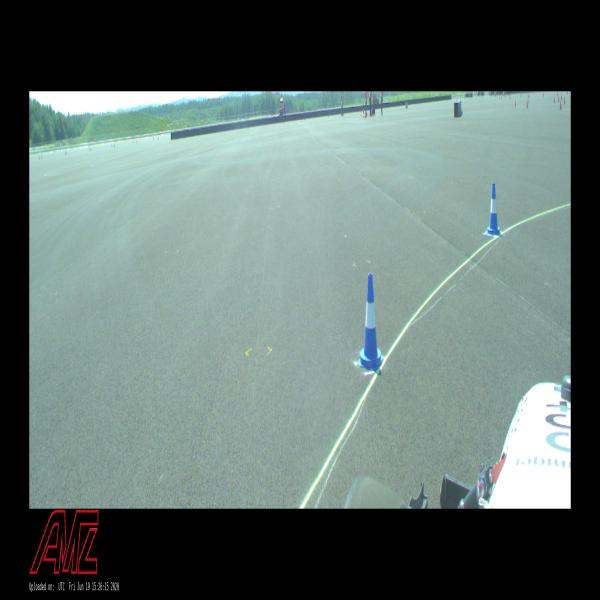blue_cone: (357, 273, 385, 371), (485, 182, 502, 236)
